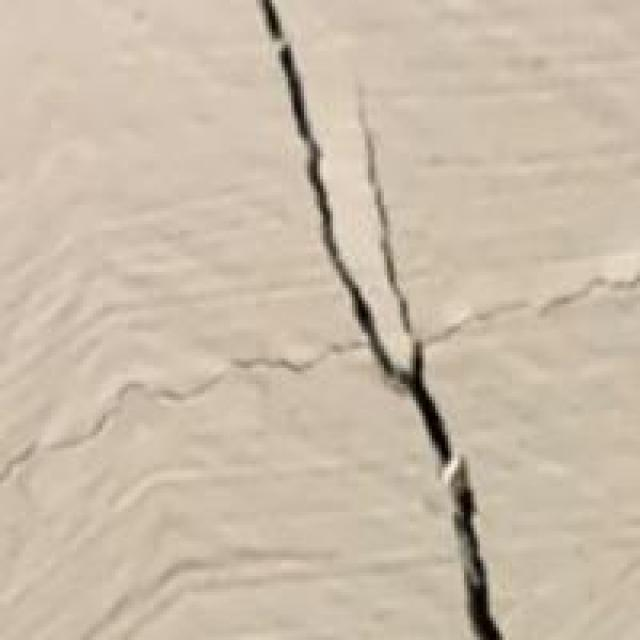crack: (256, 0, 518, 637)
